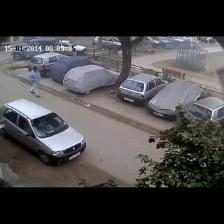person: (30, 67, 40, 97)
